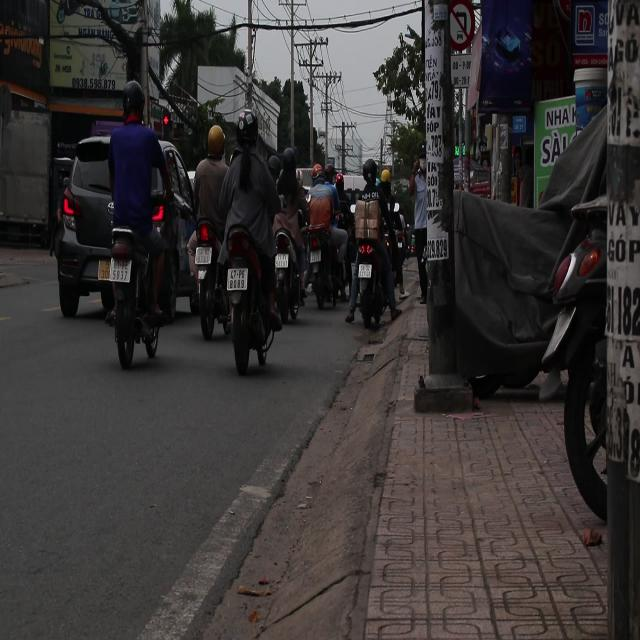car: (53, 129, 118, 312)
motorbike: (96, 222, 170, 387), (221, 227, 279, 376), (188, 220, 230, 343), (272, 228, 306, 323), (359, 233, 388, 334), (310, 230, 336, 324)
truck: (0, 82, 52, 248)
